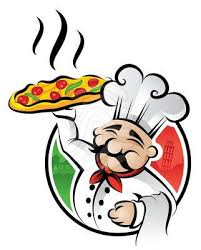pizza: (11, 74, 104, 110)
